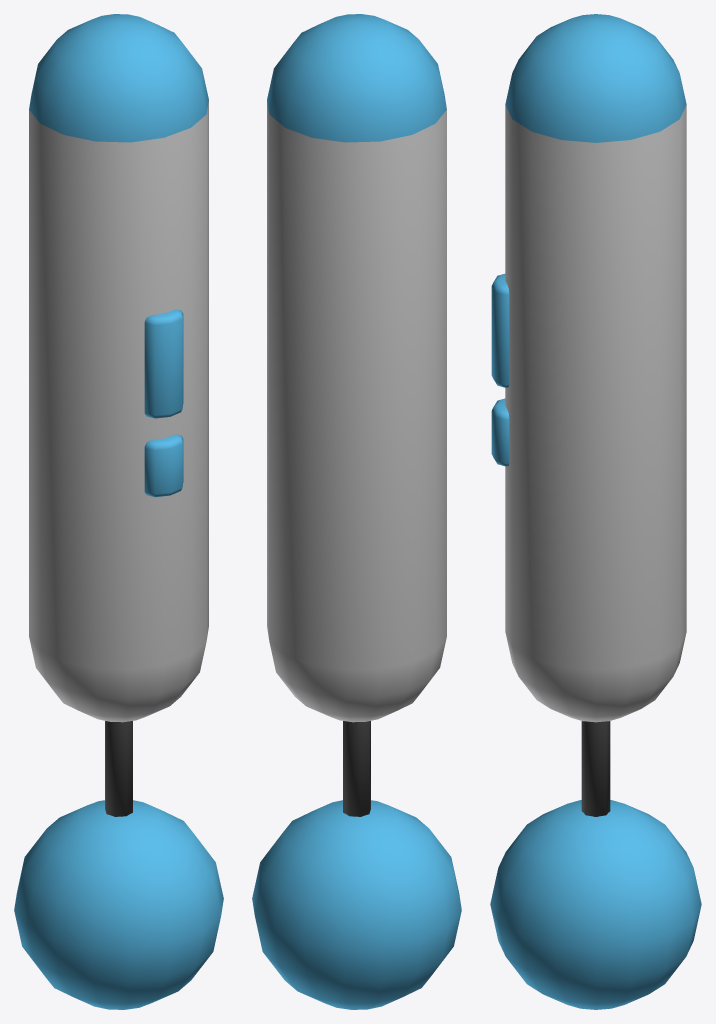
The model's file is Kazıma.fbx.
3 renders of one model, left to right at view 1: azimuth 30°, elevation 25°; view 2: azimuth 150°, elevation 25°; view 3: azimuth 270°, elevation 25°, orthographic.
Visible parts, largest first — view 1: Cylinder.005, Cylinder.004; view 2: Cylinder.005, Cylinder.004; view 3: Cylinder.005, Cylinder.004.
Part boxes in pixels (x1=…): Cylinder.005: x1=29, y1=14, x2=208, y2=816; Cylinder.004: x1=14, y1=800, x2=223, y2=1009; Cylinder.005: x1=267, y1=14, x2=446, y2=816; Cylinder.004: x1=252, y1=800, x2=461, y2=1009; Cylinder.005: x1=491, y1=14, x2=686, y2=816; Cylinder.004: x1=490, y1=800, x2=701, y2=1009.
Bounding box in the file's own units: 2 × 10.2 × 2.
